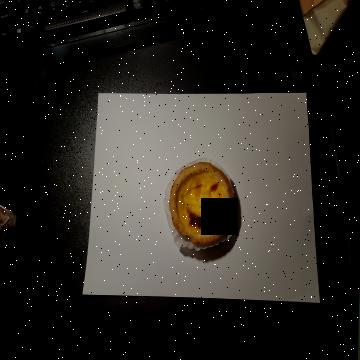EggTart: (170, 160, 234, 247)
